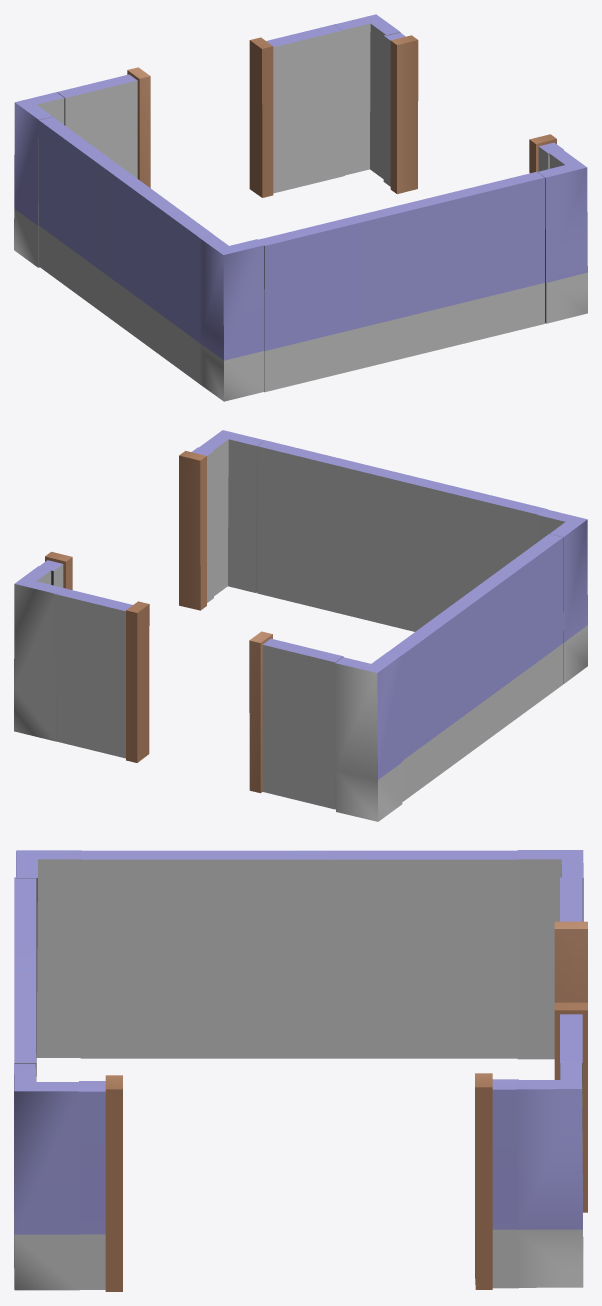
File: GARAJE.fbx
3 renders of one model, top to bottom at view 1: azimuth 30°, elevation 25°; view 2: azimuth 150°, elevation 25°; view 3: azimuth 270°, elevation 25°, orthographic. The views are drawn at different scales.
Parts seen in each view (by area): view 1: paret_basica31, paret_basica27, paret_puerta58, paret_esquina42, paret_esquina40, paret_garaje4, paret_esquina39, paret_esquina_100; view 2: paret_basica31, paret_puerta58, paret_basica27, paret_esquina_100, paret_esquina40, paret_esquina39, paret_garaje4, paret_esquina42; view 3: paret_basica27, paret_garaje4, paret_esquina39, paret_esquina40, paret_esquina42, paret_esquina_100, paret_puerta58, paret_basica31.
Part boxes in pixels (x1,y1,x2,y2): paret_basica31: (258,171,544,392); paret_basica27: (38,117,213,383); paret_puerta58: (57,24,344,197); paret_esquina42: (199,234,264,401); paret_esquina40: (537,150,587,323); paret_garaje4: (383,32,563,194); paret_esquina39: (334,14,400,178); paret_esquina_100: (14,92,64,267); paret_basica31: (257,440,547,631); paret_puerta58: (54,588,343,809); paret_basica27: (388,534,563,801); paret_esquina_100: (335,652,402,821); paret_esquina40: (199,430,264,595); paret_esquina39: (14,566,64,741); paret_garaje4: (39,447,213,610); paret_esquina42: (537,509,587,683); paret_basica27: (80,850,519,1058); paret_garaje4: (79,1073,518,1291); paret_esquina39: (516,1061,583,1287); paret_esquina40: (14,1063,79,1290); paret_esquina42: (16,850,81,1076); paret_esquina_100: (517,850,583,1059); paret_puerta58: (554,877,587,1212); paret_basica31: (14,877,36,1081).
Size of the model in its own units: 869 by 341 by 866.
